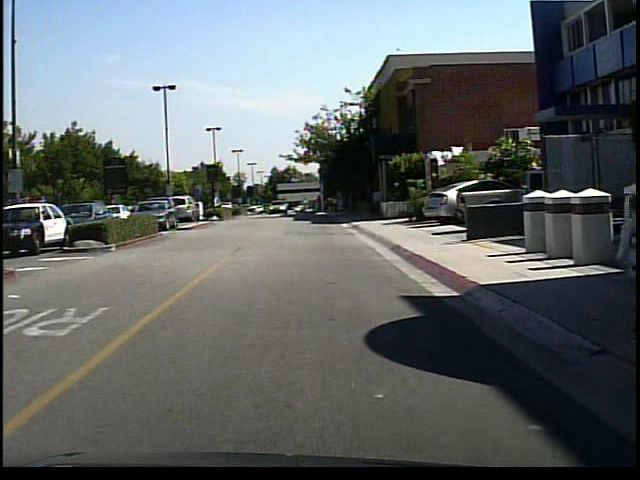person: (207, 191, 223, 219), (300, 195, 315, 221)
